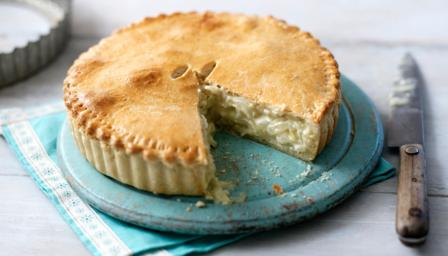cheese: (65, 8, 353, 199)
